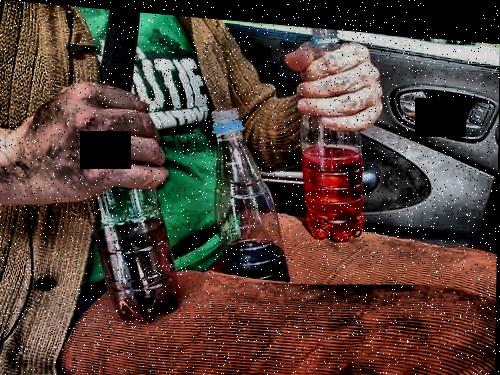seatbelt: (64, 10, 150, 91)
